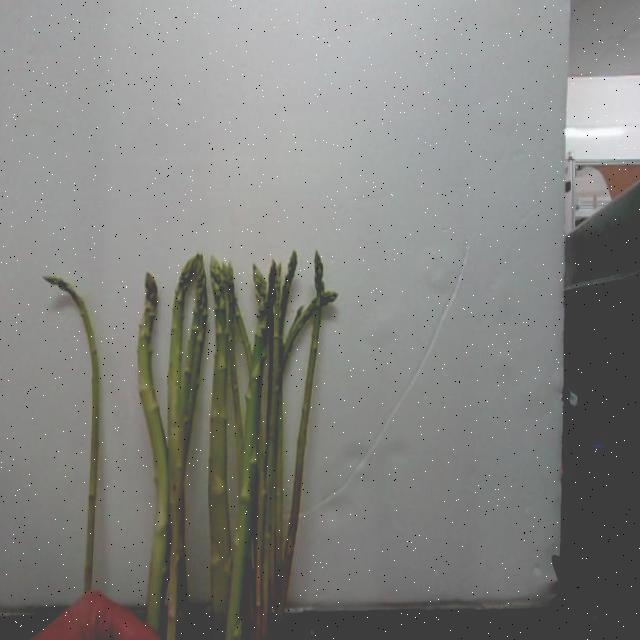aspargus: (46, 277, 102, 595), (136, 275, 171, 623)
